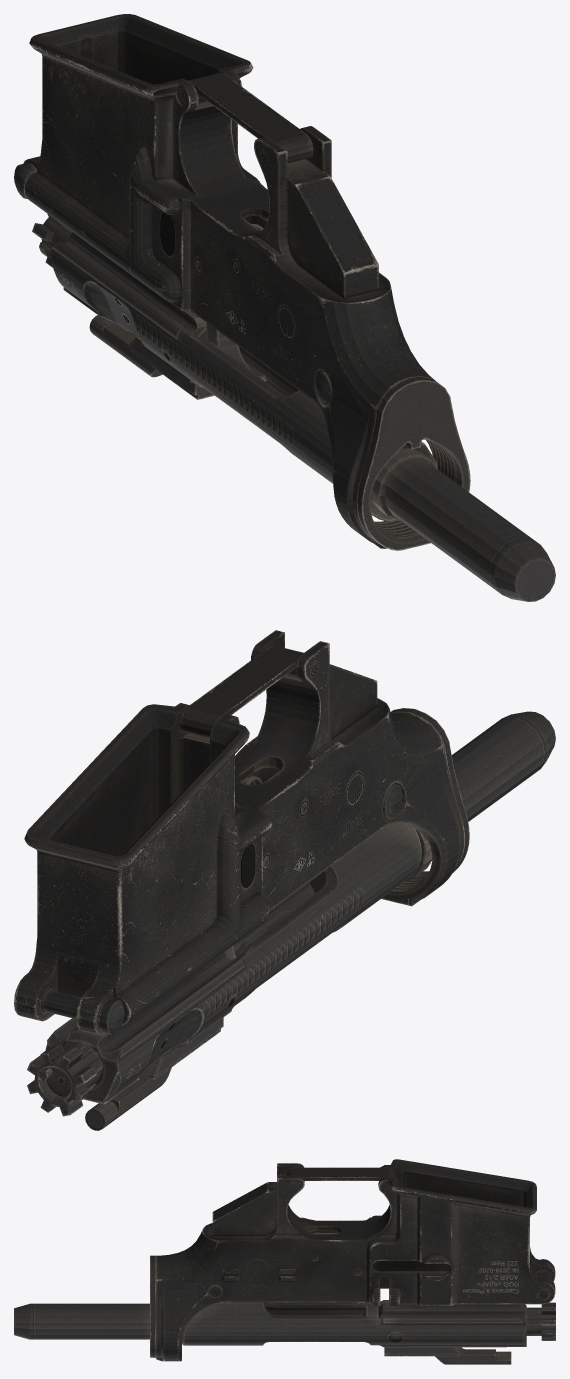
3 renders of one model, top to bottom at view 1: azimuth 30°, elevation 25°; view 2: azimuth 150°, elevation 25°; view 3: azimuth 270°, elevation 25°, orthographic. The views are drawn at different scales.
Parts seen in each view (by area): view 1: TW_5c07c60e0db834002330051f_PZ_Import; view 2: TW_5c07c60e0db834002330051f_PZ_Import; view 3: TW_5c07c60e0db834002330051f_PZ_Import.
Part boxes in pixels (x1,y1,x2,y2): TW_5c07c60e0db834002330051f_PZ_Import: (14, 14, 555, 601); TW_5c07c60e0db834002330051f_PZ_Import: (14, 630, 555, 1130); TW_5c07c60e0db834002330051f_PZ_Import: (14, 1159, 555, 1364).
Size of the model in its own units: 0.0217 by 0.1537 by 0.0604.
1 material, 1 textured.
